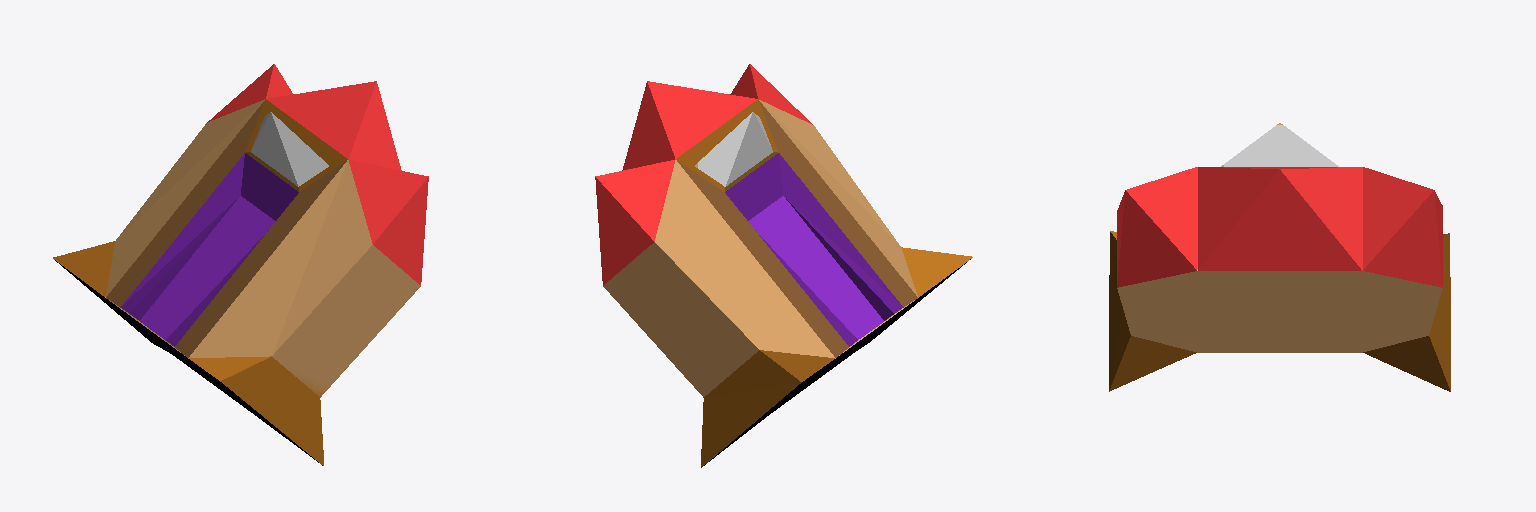
The picture shows the model from 3 angles: view 1: azimuth 30°, elevation 25°; view 2: azimuth 150°, elevation 25°; view 3: azimuth 270°, elevation 25°; orthographic projection.
Visible parts, largest first — view 1: enemy_spawner; view 2: enemy_spawner; view 3: enemy_spawner.
Part boxes in pixels (x1,y1,x2,y2): enemy_spawner: (53,64,428,465); enemy_spawner: (595,64,972,467); enemy_spawner: (1109,123,1450,391).
Bounding box in the file's own units: 2.52 × 2.9 × 3.09.
1 materials, 1 textured.